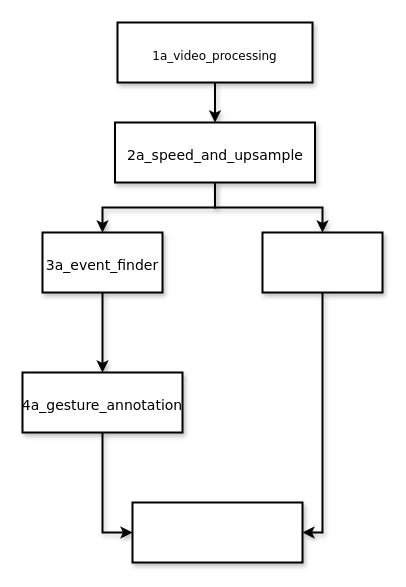
This 406x587 diagram has some shape labels left out. Each missing label, with the centre of its shape:
3b_apex_only: (x=323, y=263)
5_annotations_to_elan: (x=218, y=533)
